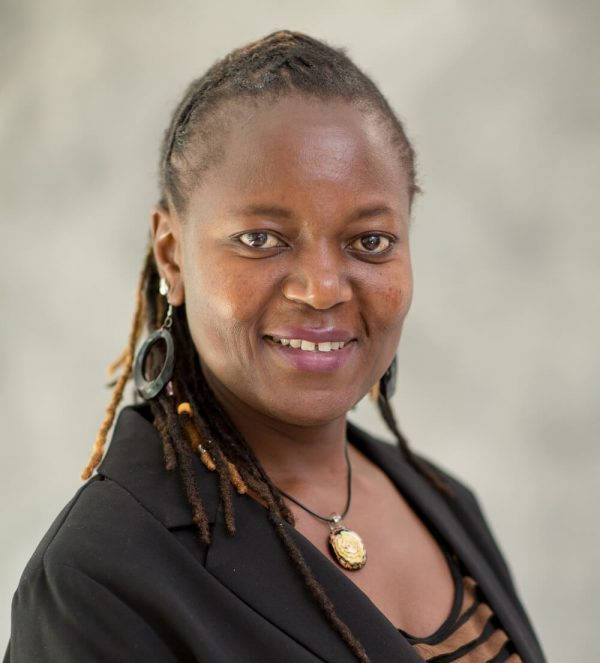person: (144, 27, 417, 433)
